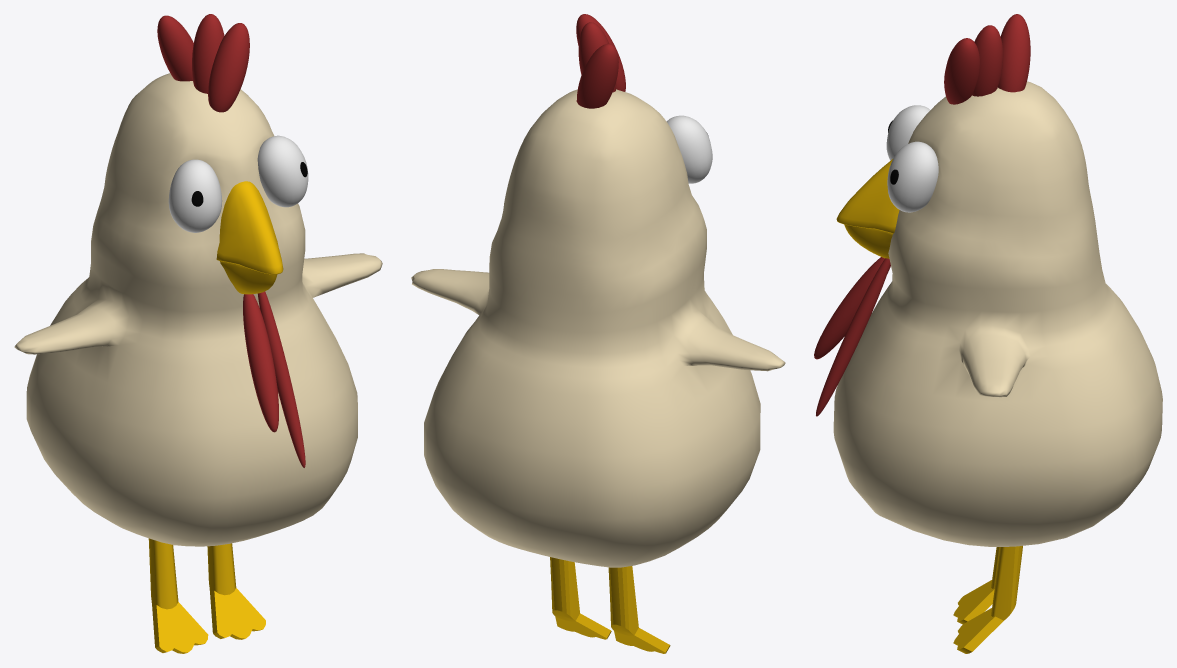
Rendered from Chicken_model.fbx.
3 views of the same model, side by side, from view 1: azimuth 30°, elevation 25°; view 2: azimuth 150°, elevation 25°; view 3: azimuth 270°, elevation 25° (orthographic). The views are drawn at different scales.
Visible parts, largest first — view 1: body, hair, gobble, beak_top, r_foot, l_foot, r_eye, l_eye, beak_bottom; view 2: body, hair, r_foot, l_foot, r_eye; view 3: body, hair, gobble, l_eye, l_foot, beak_top, r_eye, r_foot, beak_bottom.
Part boxes in pixels (bbox=[...]): body: bbox=[14, 73, 382, 546]; hair: bbox=[157, 14, 249, 112]; gobble: bbox=[243, 291, 305, 467]; beak_top: bbox=[216, 181, 283, 274]; r_foot: bbox=[148, 538, 208, 653]; l_foot: bbox=[207, 543, 265, 639]; r_eye: bbox=[168, 159, 222, 232]; l_eye: bbox=[257, 135, 308, 207]; beak_bottom: bbox=[220, 261, 277, 294]; body: bbox=[411, 89, 785, 567]; hair: bbox=[576, 14, 625, 108]; r_foot: bbox=[608, 566, 670, 653]; l_foot: bbox=[550, 557, 611, 639]; r_eye: bbox=[666, 115, 712, 183]; body: bbox=[833, 81, 1162, 546]; hair: bbox=[944, 14, 1030, 104]; gobble: bbox=[814, 257, 890, 416]; l_eye: bbox=[887, 141, 938, 212]; l_foot: bbox=[953, 546, 1022, 653]; beak_top: bbox=[836, 159, 899, 233]; r_eye: bbox=[886, 105, 930, 160]; r_foot: bbox=[953, 547, 1000, 624]; beak_bottom: bbox=[844, 224, 892, 258].
Bounding box in the file's own units: 1.5 × 2.43 × 1.25.
